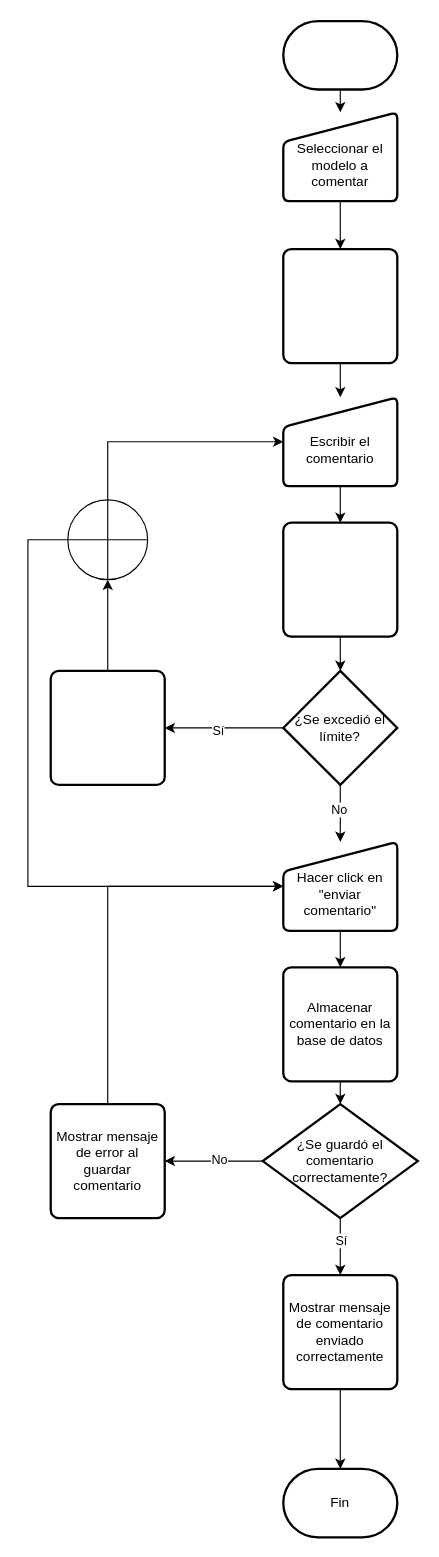
Image size: 439x1557. Some labels were removed from this diagram. The centre of each missing label's shape, as x and y in pixels:
"Habilitar cuadro de texto para la entrada del usuario" belongs at point (340, 305).
"Inicio" belongs at point (340, 54).
"Mostrar mensaje de error, se excedió el límite de caracteres." belongs at point (107, 727).
"Verificar que no se exceda el límite de caracteres" belongs at point (340, 579).
